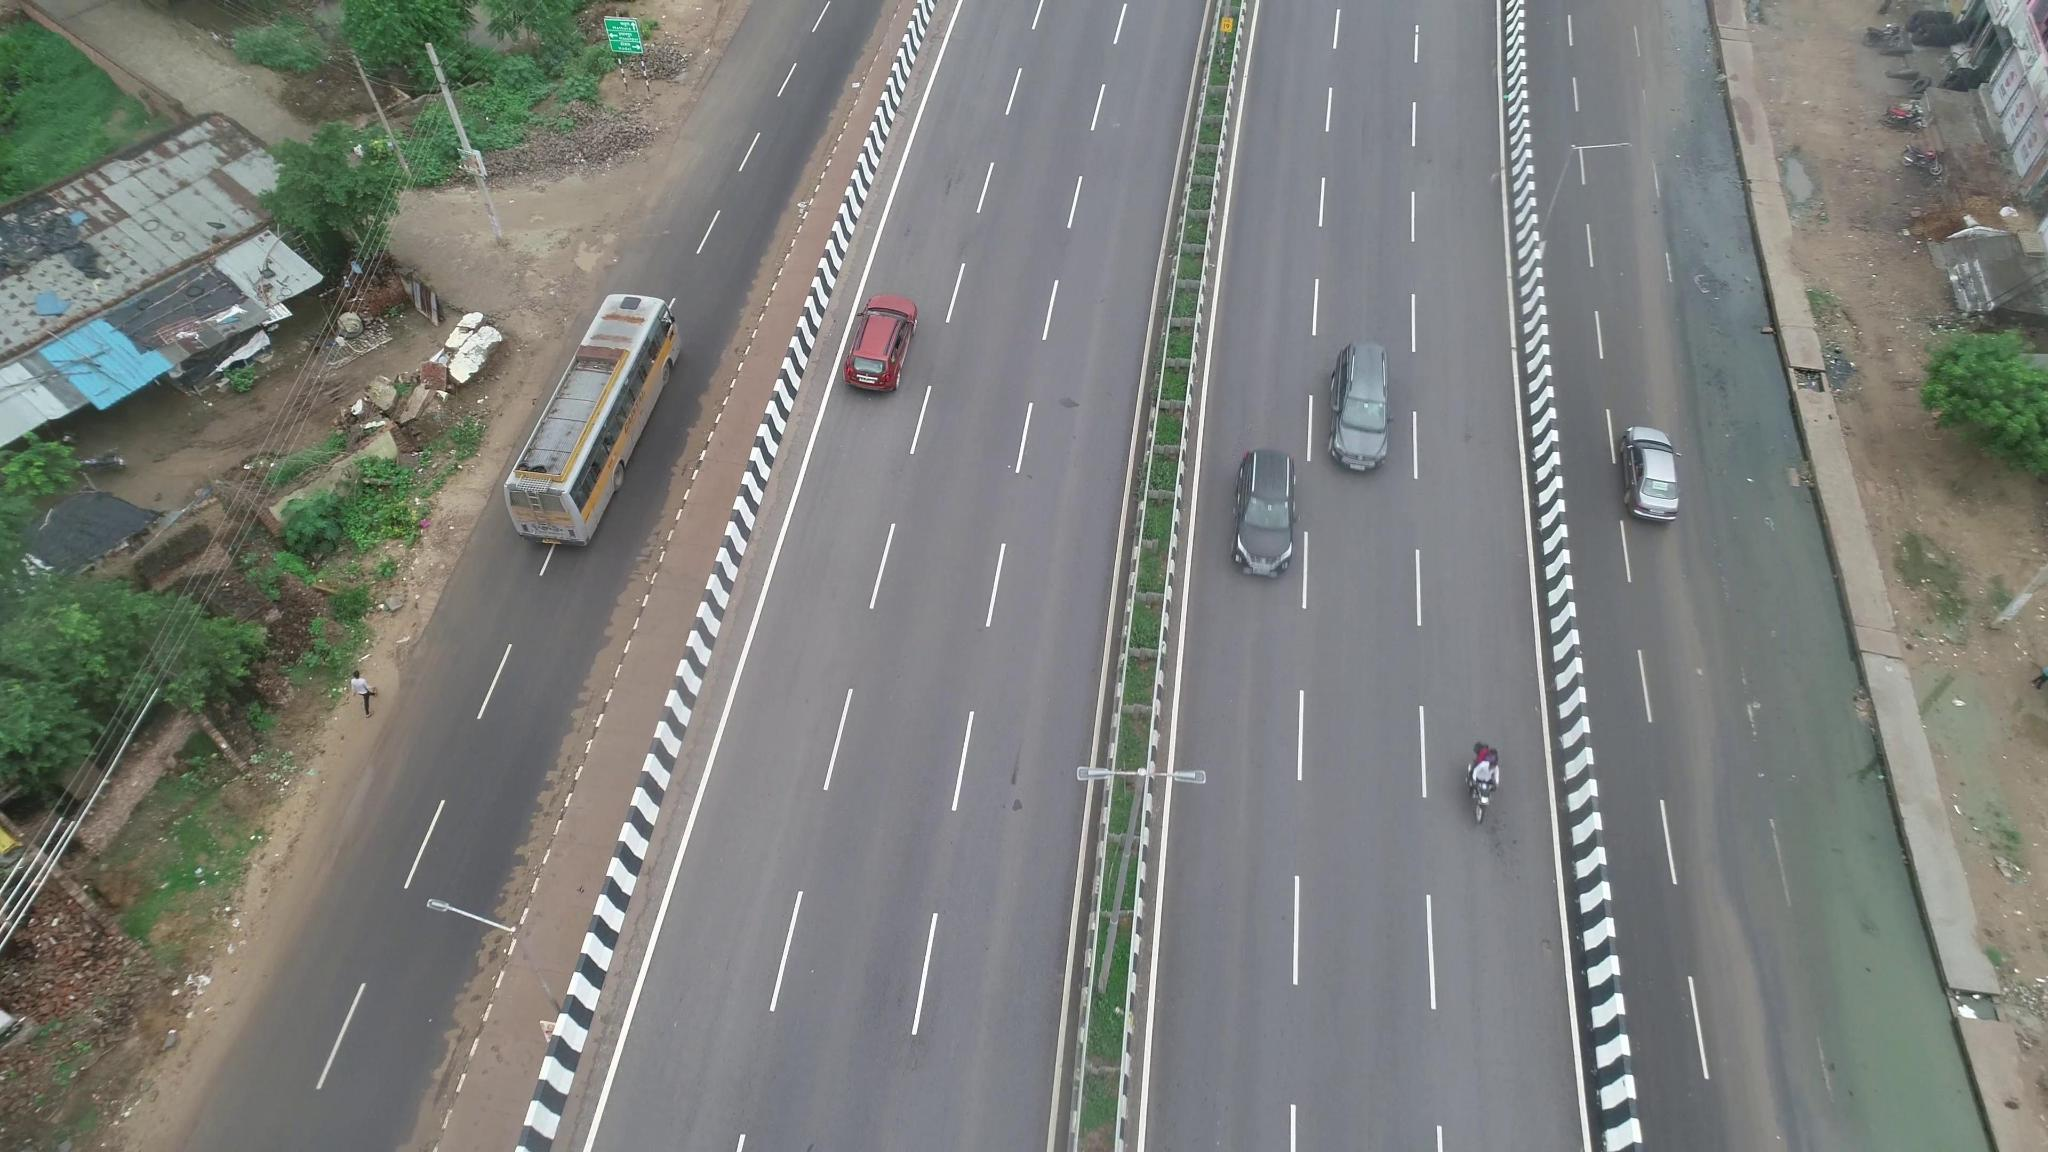Waterlogging: (1755, 632, 1928, 1090), (1661, 210, 1807, 565)
